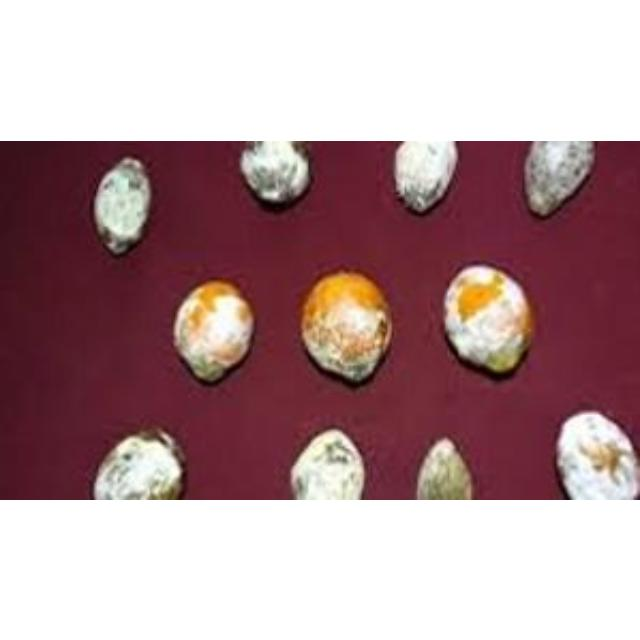damaged: (302, 271, 390, 380), (443, 264, 529, 371), (173, 283, 253, 378), (557, 414, 638, 497), (94, 429, 180, 497), (96, 157, 148, 251), (527, 140, 593, 213), (293, 431, 362, 497), (396, 140, 454, 208), (242, 140, 306, 200), (417, 438, 471, 497)
